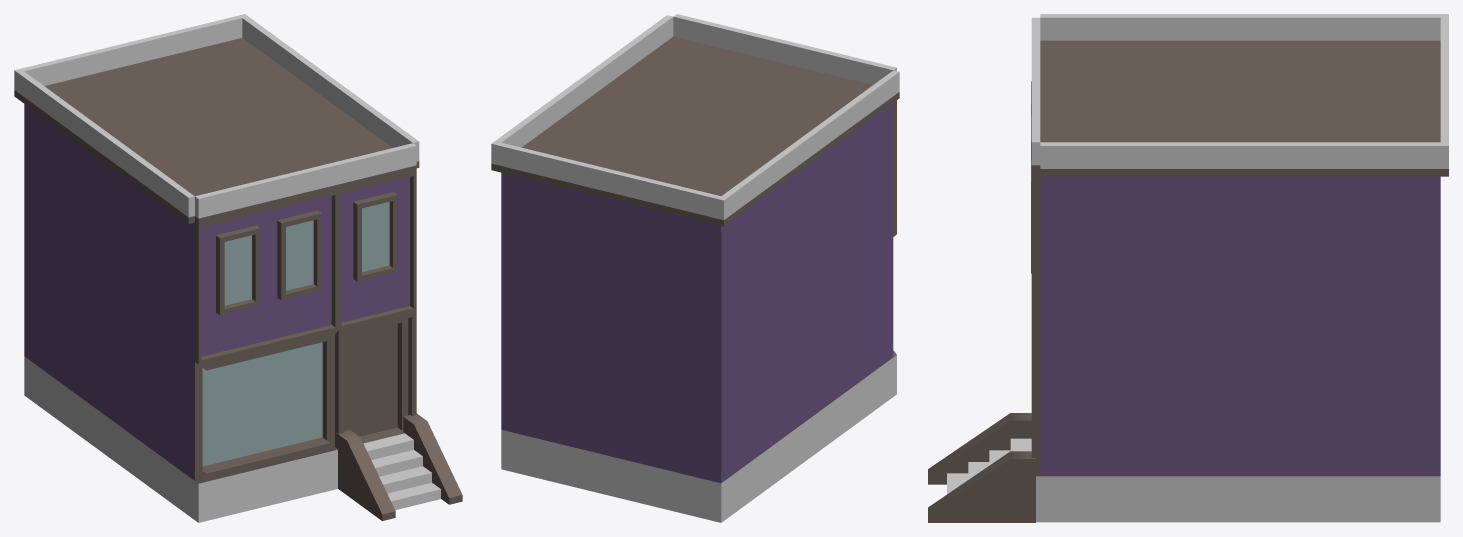
Rendered from shop1.fbx.
3 renders of one model, left to right at view 1: azimuth 30°, elevation 25°; view 2: azimuth 150°, elevation 25°; view 3: azimuth 270°, elevation 25°, orthographic. The views are drawn at different scales.
Parts seen in each view (by area): view 1: pCube1, pCube5, pCube4, pCube6, pCube3, pCube2; view 2: pCube1; view 3: pCube1, pCube2, pCube3.
Boxes of the visible parts, bbox=[...] form: pCube1: bbox=[14, 14, 440, 522]; pCube5: bbox=[277, 210, 321, 300]; pCube4: bbox=[216, 225, 260, 315]; pCube6: bbox=[353, 192, 397, 281]; pCube3: bbox=[336, 429, 395, 520]; pCube2: bbox=[403, 413, 462, 504]; pCube1: bbox=[491, 14, 899, 522]; pCube1: bbox=[947, 14, 1448, 522]; pCube2: bbox=[928, 451, 1035, 522]; pCube3: bbox=[928, 413, 1031, 484].
Bounding box in the file's own units: 14.75 × 19.8 × 24.61.
